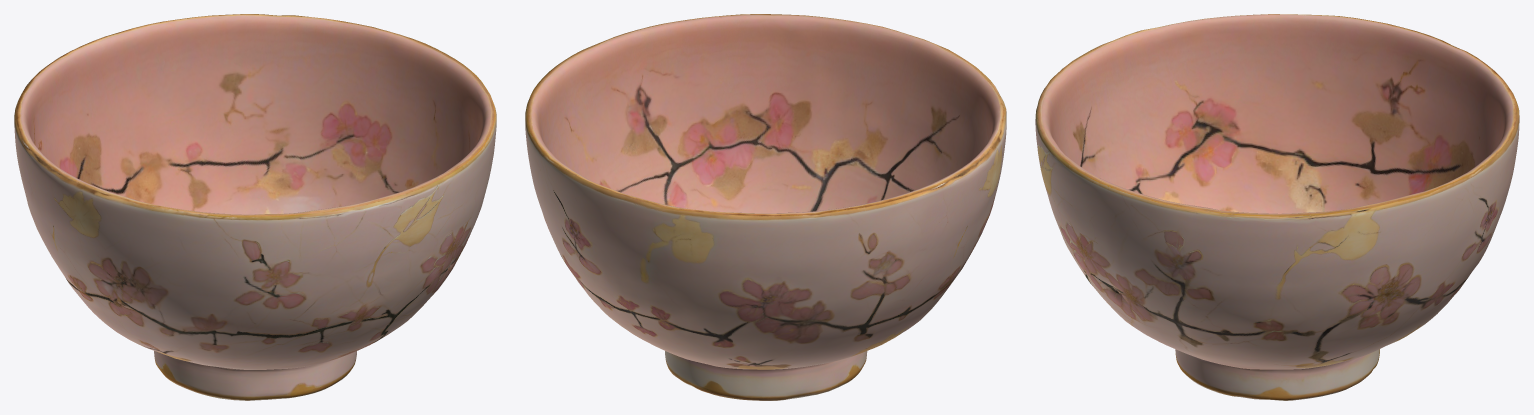
File: Repaired Cracked Bowl.glb
3 views of the same model, side by side, from view 1: azimuth 30°, elevation 25°; view 2: azimuth 150°, elevation 25°; view 3: azimuth 270°, elevation 25° (orthographic).
Bounding box in the file's own units: 2 × 1.15 × 2.
Materials: 1 (1 with a texture image).
